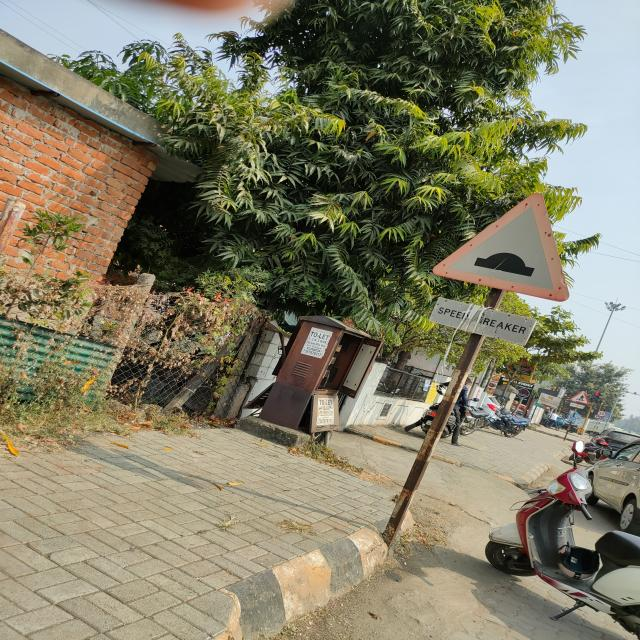horn_prohibited: (432, 193, 570, 302)
